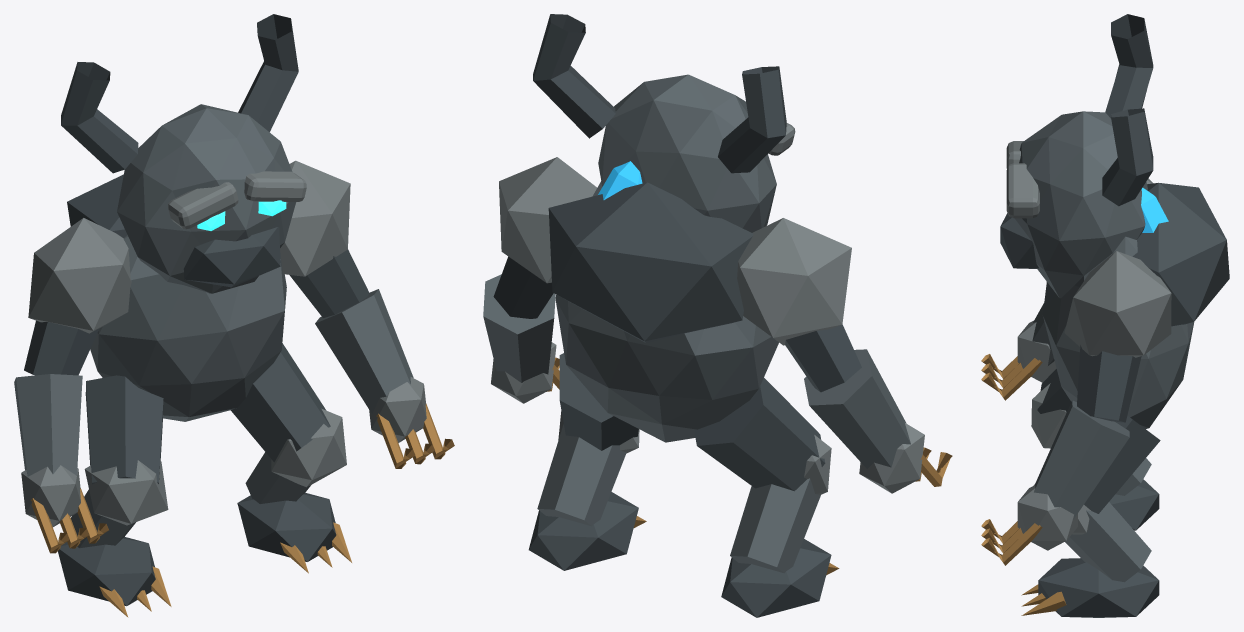
Rendered from imp.glb.
3 views of the same model, side by side, from view 1: azimuth 30°, elevation 25°; view 2: azimuth 150°, elevation 25°; view 3: azimuth 270°, elevation 25° (orthographic). The views are drawn at different scales.
Parts seen in each view (by area): view 1: Body_matte.001, Head_matte.001, Body_metal.001, Head_glow_cyan; view 2: Body_matte.001, Head_matte.001, Body_metal.001, Head_crystal; view 3: Body_matte.001, Head_matte.001, Body_metal.001, Head_crystal.
Boxes of the visible parts, x1,y1,x2,y2 form: Body_matte.001: (14, 160, 426, 606); Head_matte.001: (61, 14, 306, 293); Body_metal.001: (30, 403, 454, 617); Head_glow_cyan: (197, 200, 286, 230); Body_matte.001: (483, 157, 924, 617); Head_matte.001: (533, 14, 795, 232); Body_metal.001: (546, 357, 952, 575); Head_crystal: (598, 161, 642, 199); Body_matte.001: (1017, 178, 1229, 617); Head_matte.001: (1000, 14, 1153, 298); Body_metal.001: (981, 354, 1066, 615); Head_crystal: (1141, 187, 1168, 232).
Bounding box in the file's own units: 1.01 × 1.27 × 0.5601.
